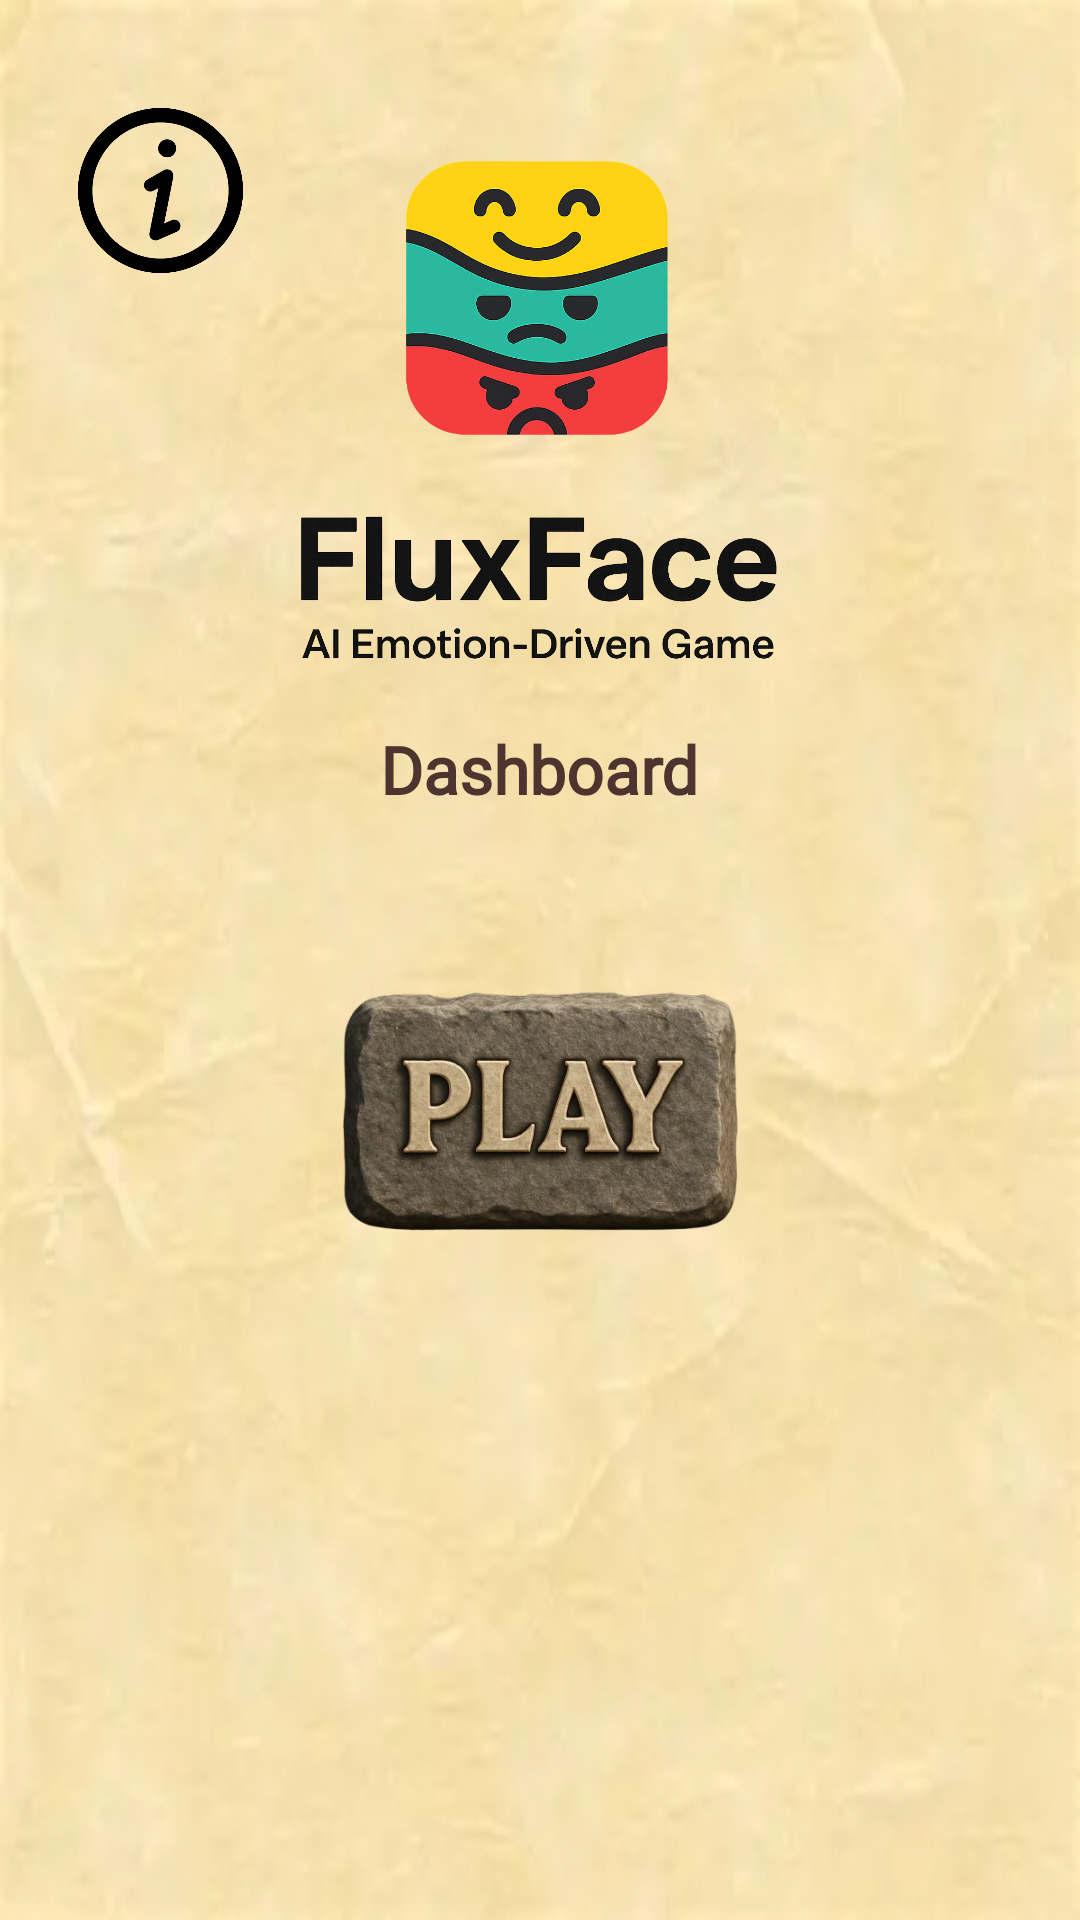

Named icons in this screenshot (1080×1920) and their centers, [x,y]:
About/Help Button: [160,190]
